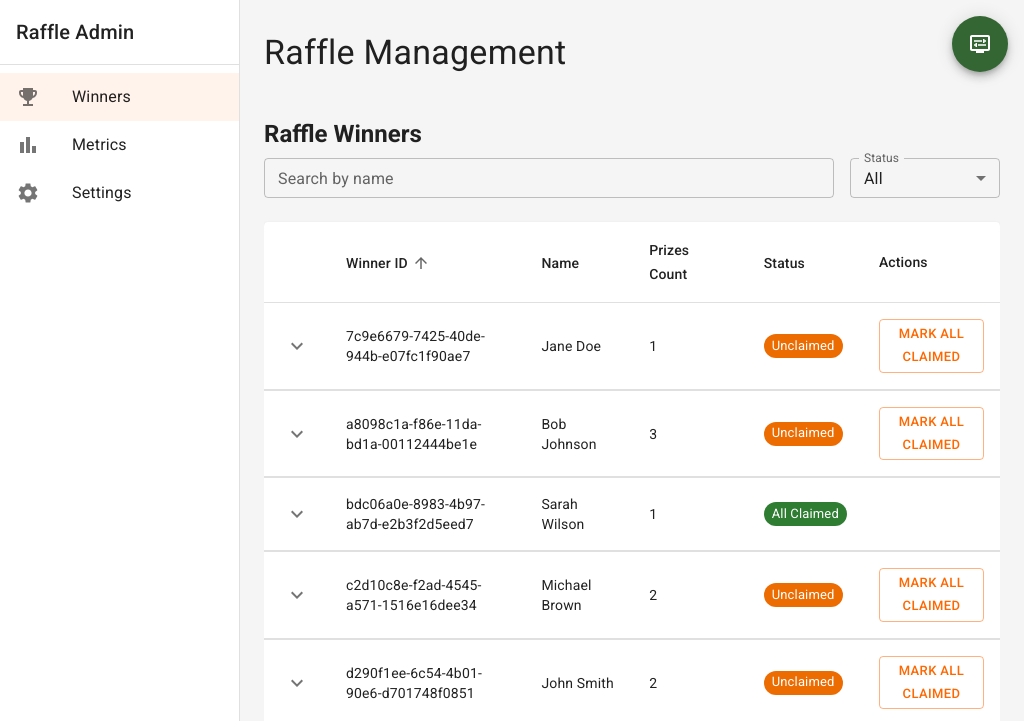
Scenario: Raffle Admin Page › should show prize details in the expanded section
The image size is (1024, 721).
Expand the first winner
Click the button without text next to "7c9e6679-7425-40de-944b-e07fc1f90ae7" at (297, 346), box [280,329,314,363]
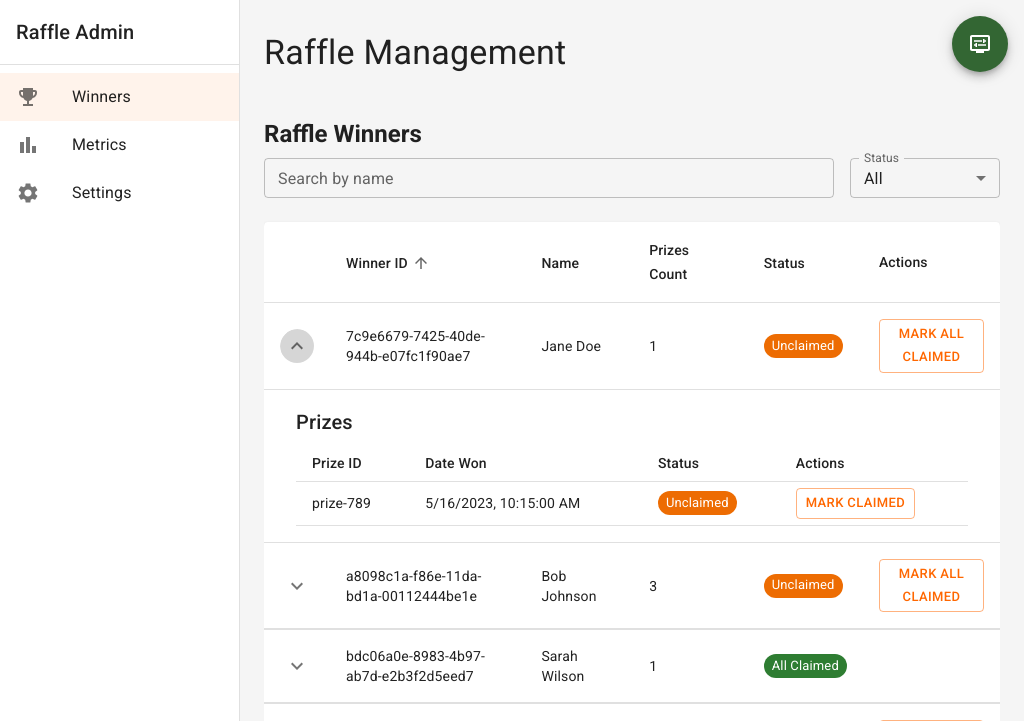
expect the column heading "Prize ID" is shown: met, box [296,445,409,481]
expect the column heading "Date Won" is shown: met, box [409,445,642,481]
expect the column heading "Status" in the row of "Prize ID" is shown: met, box [658,455,699,471]
